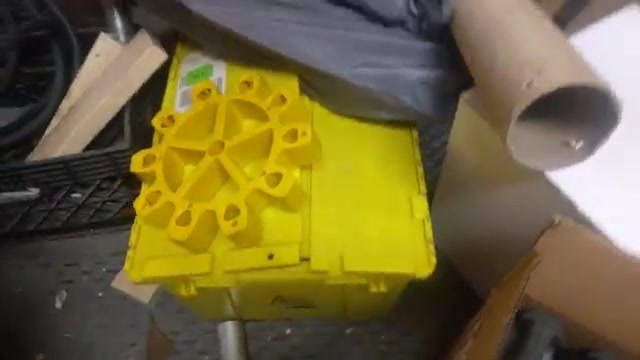gear: (121, 70, 327, 254)
